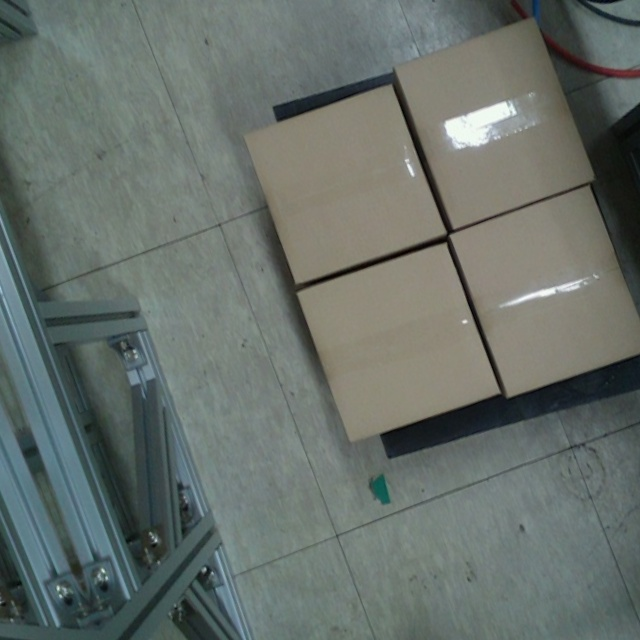box: (392, 14, 601, 229), (449, 179, 640, 400), (294, 240, 501, 443), (245, 84, 449, 286)
